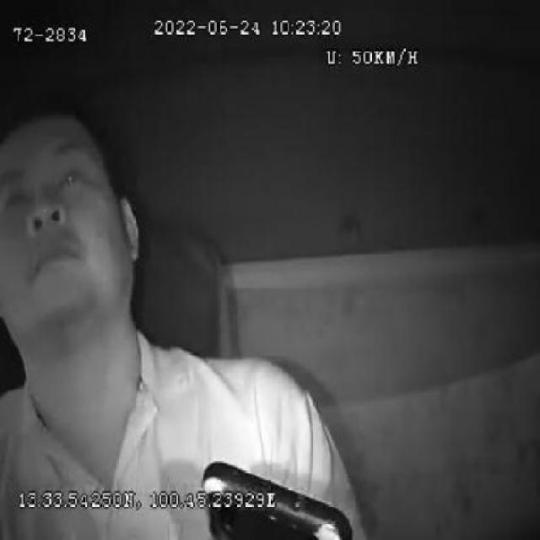phone: (193, 450, 362, 540)
